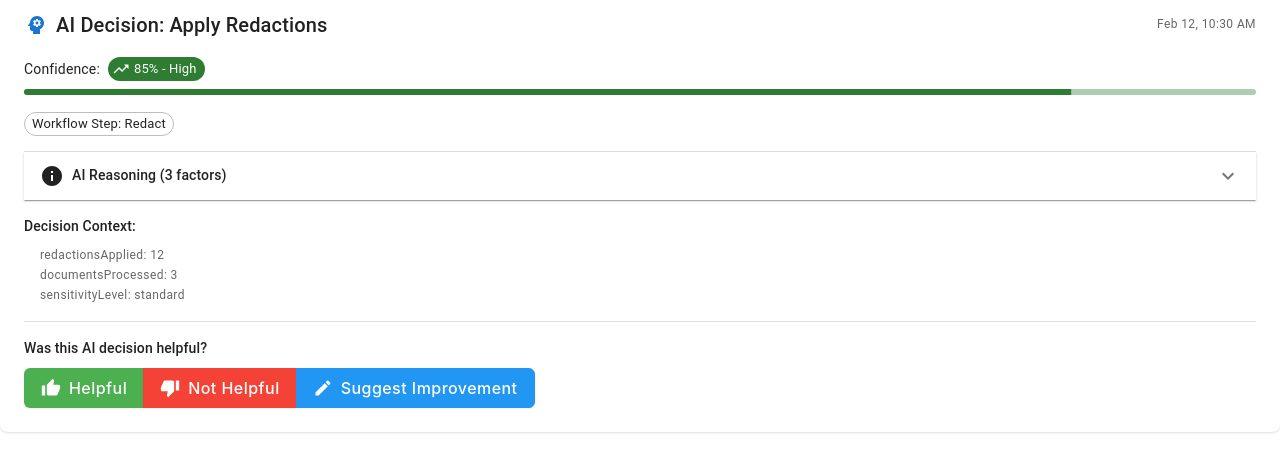
AIDecisionTransparency › Feedback Controls › handles positive feedback correctly
Click the button "Helpful": click(84, 388) 24,368 -> 144,408
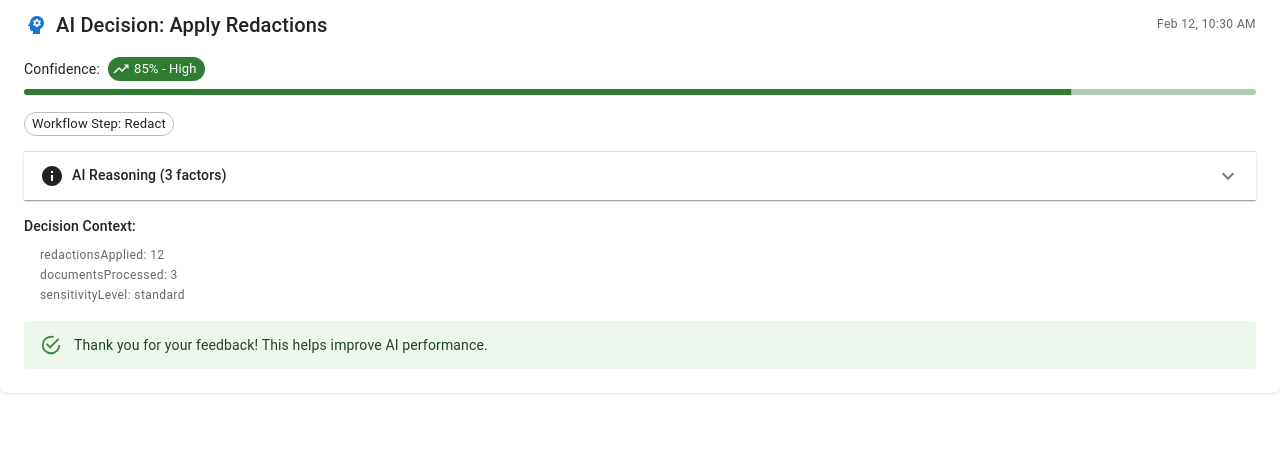
Now the text "Thank you for your feedback! This helps improve AI performance." is shown, box 74,338 -> 488,354
